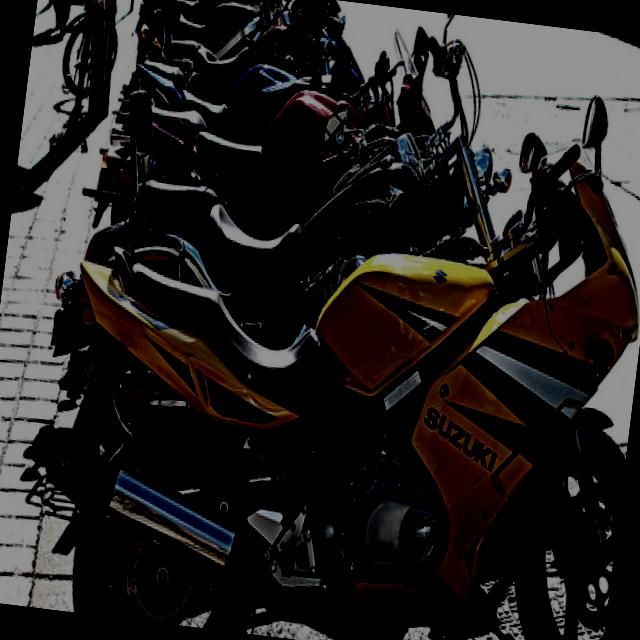Vehicle: (36, 34, 640, 640), (74, 0, 531, 274), (36, 150, 420, 444), (144, 24, 403, 210), (119, 0, 371, 152), (137, 0, 337, 112), (133, 0, 275, 71), (147, 0, 263, 7)
